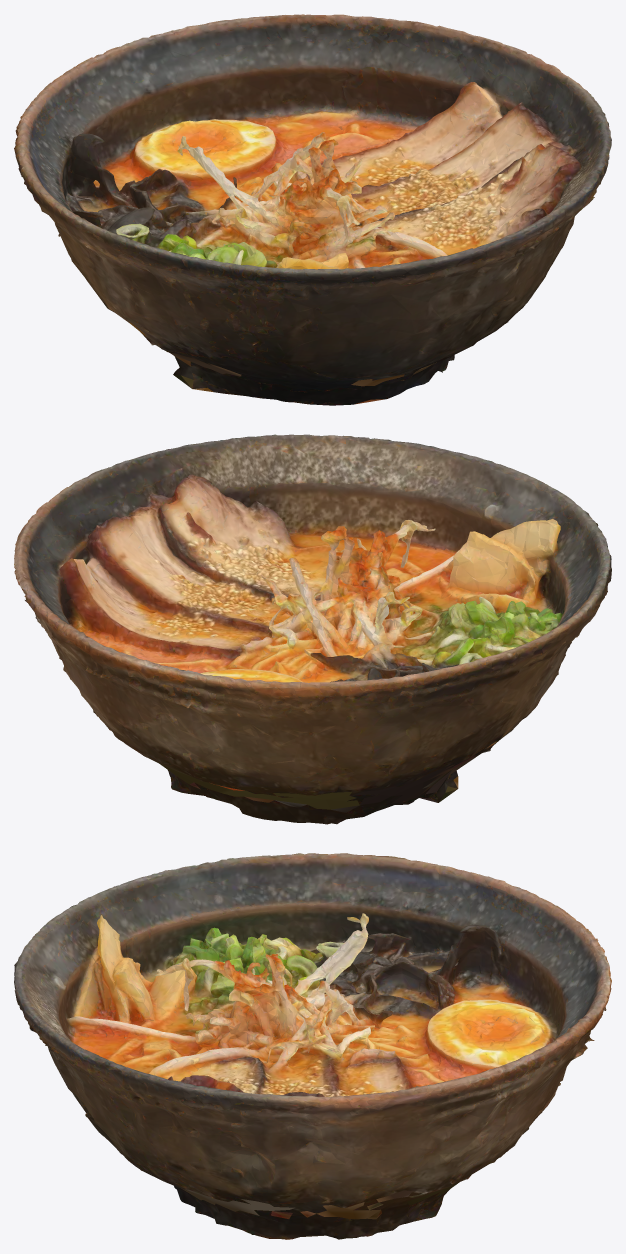
File: ramen.glb
3 renders of one model, top to bottom at view 1: azimuth 30°, elevation 25°; view 2: azimuth 150°, elevation 25°; view 3: azimuth 270°, elevation 25°, orthographic.
Parts seen in each view (by area): view 1: model_tex_u1_v1_0; view 2: model_tex_u1_v1_0; view 3: model_tex_u1_v1_0.
Boxes of the visible parts, box(x1,y1,x2,y2) form: model_tex_u1_v1_0: box(14, 14, 611, 405); model_tex_u1_v1_0: box(14, 434, 611, 824); model_tex_u1_v1_0: box(14, 853, 611, 1239).
Bounding box in the file's own units: 0.2109 × 0.0868 × 0.2119.
1 material, 1 textured.
